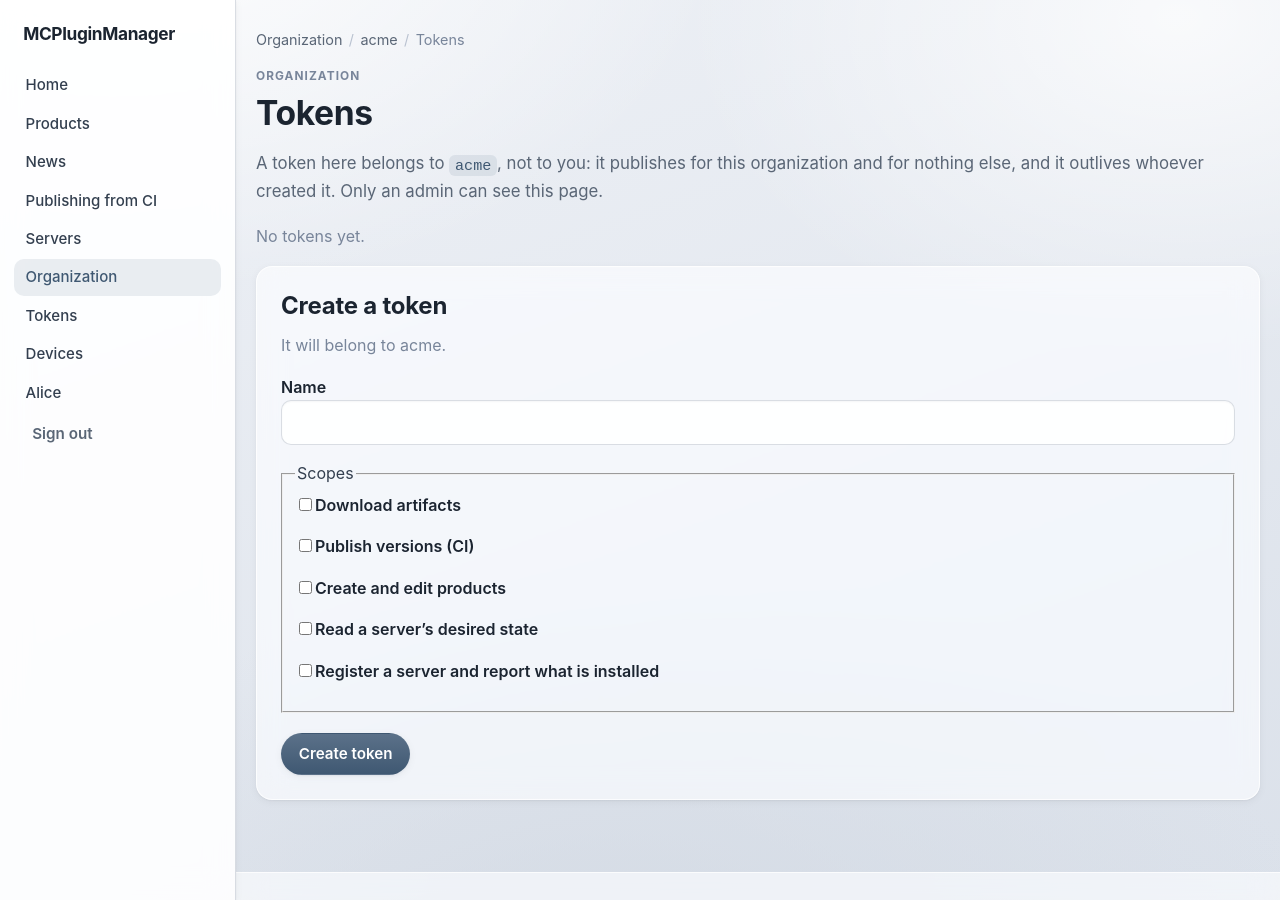
Test: an organization's tokens › mints against the org collection, not the personal one
Type "ci" into the field labelled "Name".
click(758, 423); type("ci")  # box [281,400,1235,445]
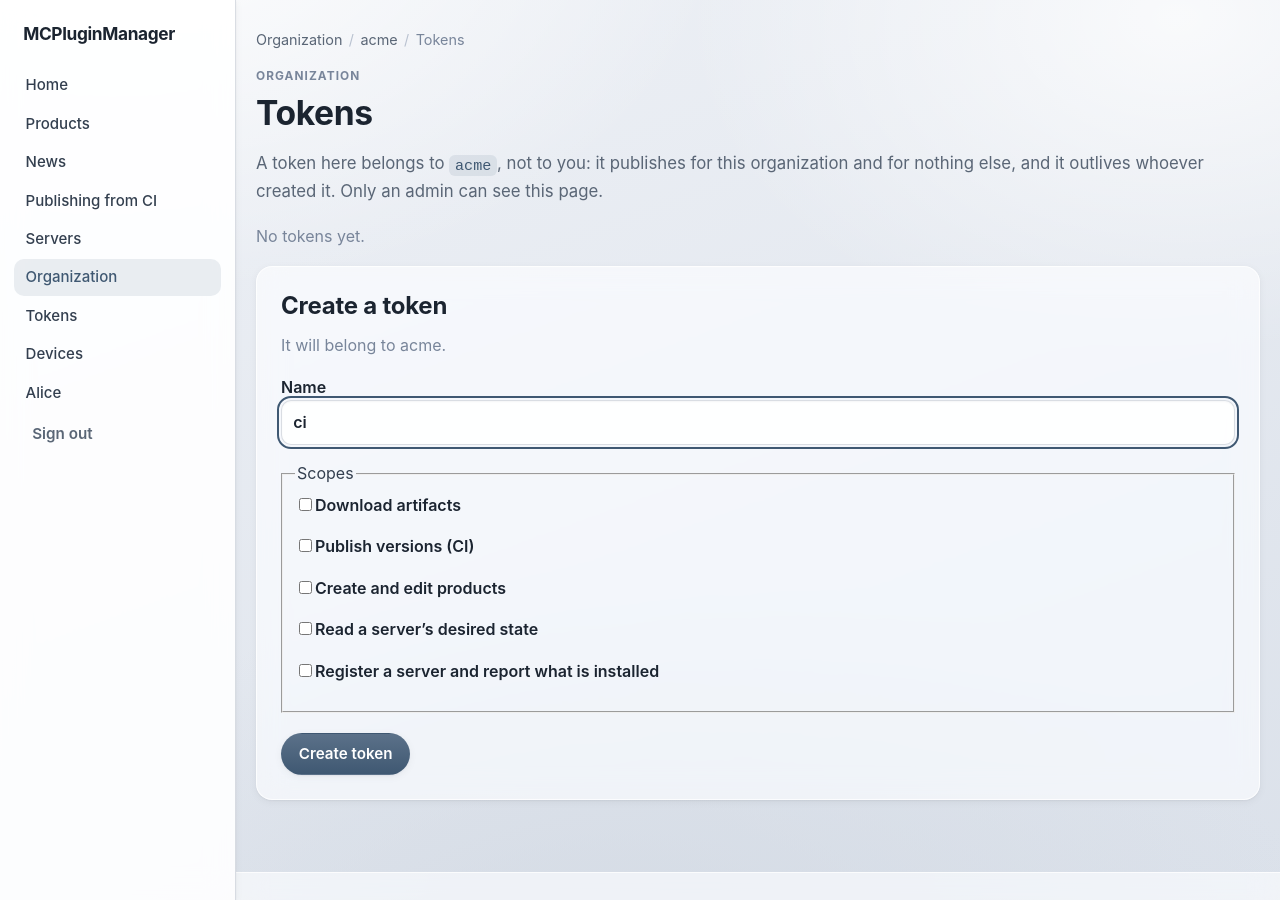
Click the checkbox labelled "Publish versions (CI)".
click(306, 546)  # box [299,539,312,552]
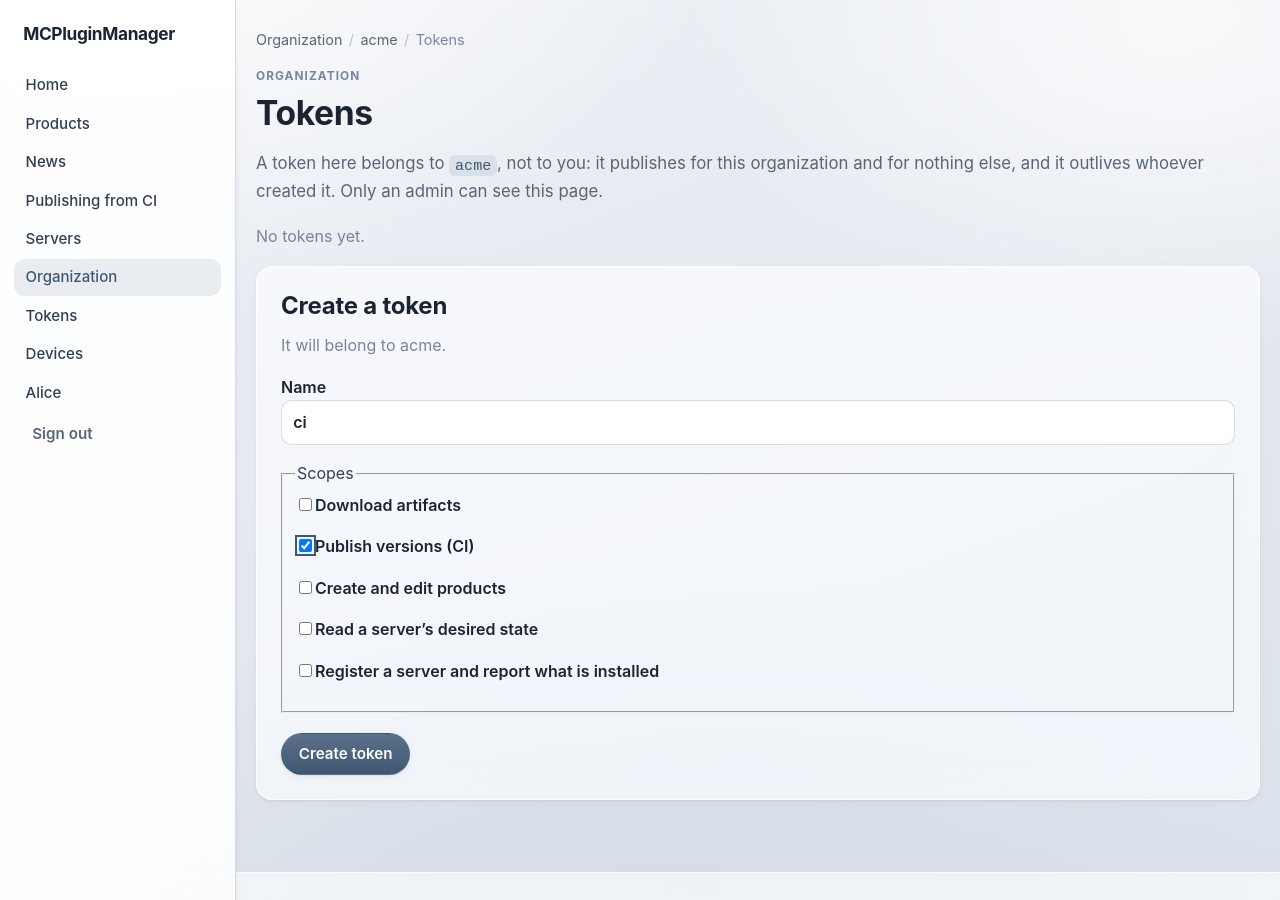
Click the button "Create token".
click(346, 754)  # box [281,732,410,775]
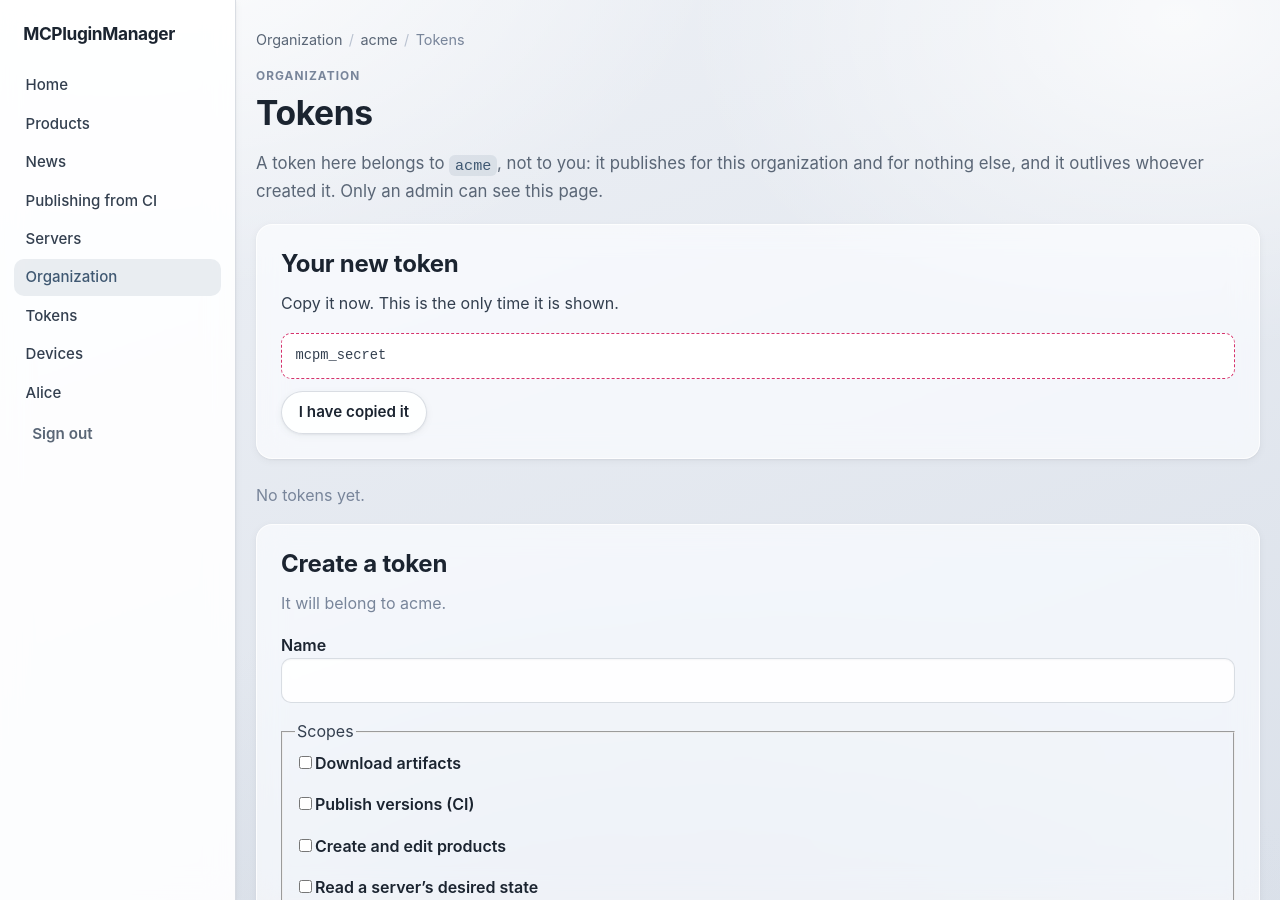
expect the text "mcpm_secret" is shown: met, box [281,333,1235,379]
